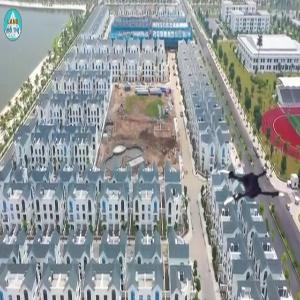drone: (210, 154, 286, 230)
